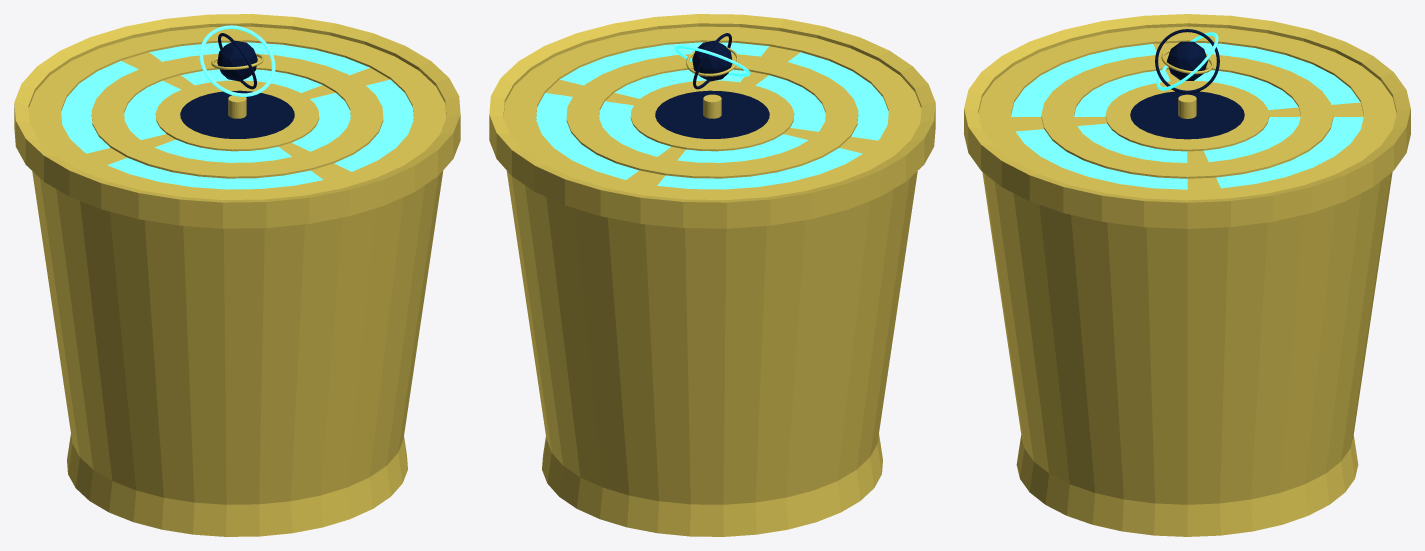
The model's file is observatorium.glb.
3 views of the same model, side by side, from view 1: azimuth 30°, elevation 25°; view 2: azimuth 150°, elevation 25°; view 3: azimuth 270°, elevation 25° (orthographic).
Parts seen in each view (by area): view 1: Cylinder, Icosphere, Torus.002; view 2: Cylinder, Icosphere; view 3: Cylinder, Icosphere, Torus.
Boxes of the visible parts, x1,y1,x2,y2 form: Cylinder: (14,14,460,536); Icosphere: (217,40,257,81); Torus.002: (199,25,275,96); Cylinder: (489,14,935,536); Icosphere: (692,40,732,81); Cylinder: (964,14,1410,536); Icosphere: (1167,41,1207,80); Torus: (1155,29,1219,93).
Size of the model in its own units: 15.79 by 16.81 by 15.79.
